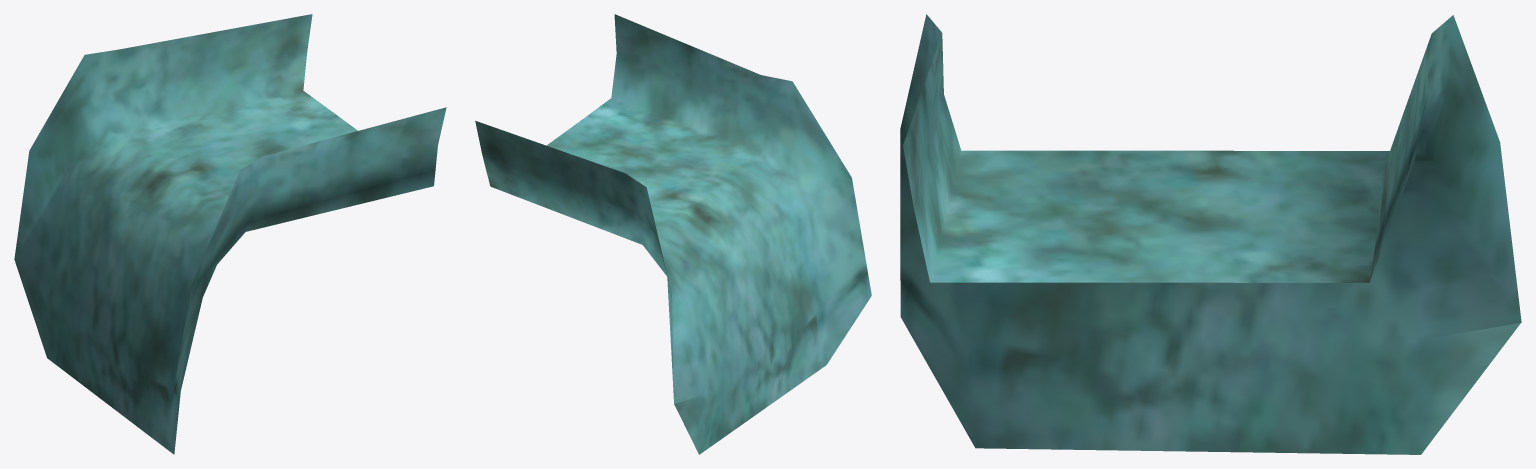
File: EKH_THRONE_PS_TH_OBJECT20.fbx
The picture shows the model from 3 angles, left to right: view 1: azimuth 30°, elevation 25°; view 2: azimuth 150°, elevation 25°; view 3: azimuth 270°, elevation 25°; orthographic projection. The views are drawn at different scales.
Parts seen in each view (by area): view 1: EKH_THRONE_PS_TH_OBJECT20; view 2: EKH_THRONE_PS_TH_OBJECT20; view 3: EKH_THRONE_PS_TH_OBJECT20.
Part boxes in pixels (left/top/right/bottom): EKH_THRONE_PS_TH_OBJECT20: left=14, top=14, right=446, bottom=454; EKH_THRONE_PS_TH_OBJECT20: left=475, top=14, right=871, bottom=454; EKH_THRONE_PS_TH_OBJECT20: left=900, top=14, right=1521, bottom=454.
Bounding box in the file's own units: 40466 × 41132 × 45344.
Materials: 1 (1 with a texture image).
